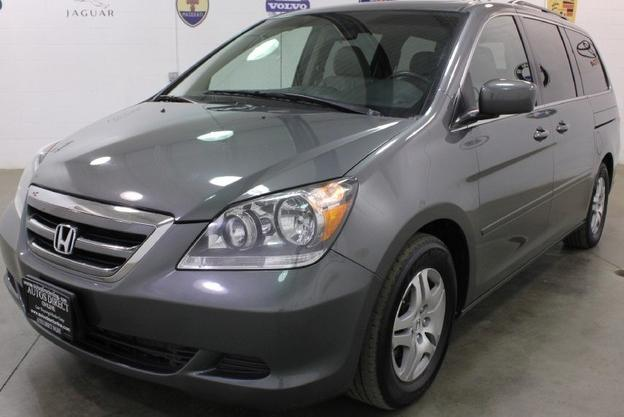front_view: (8, 154, 367, 399)
headlight: (200, 184, 370, 276)
side_glass: (470, 18, 586, 117)
